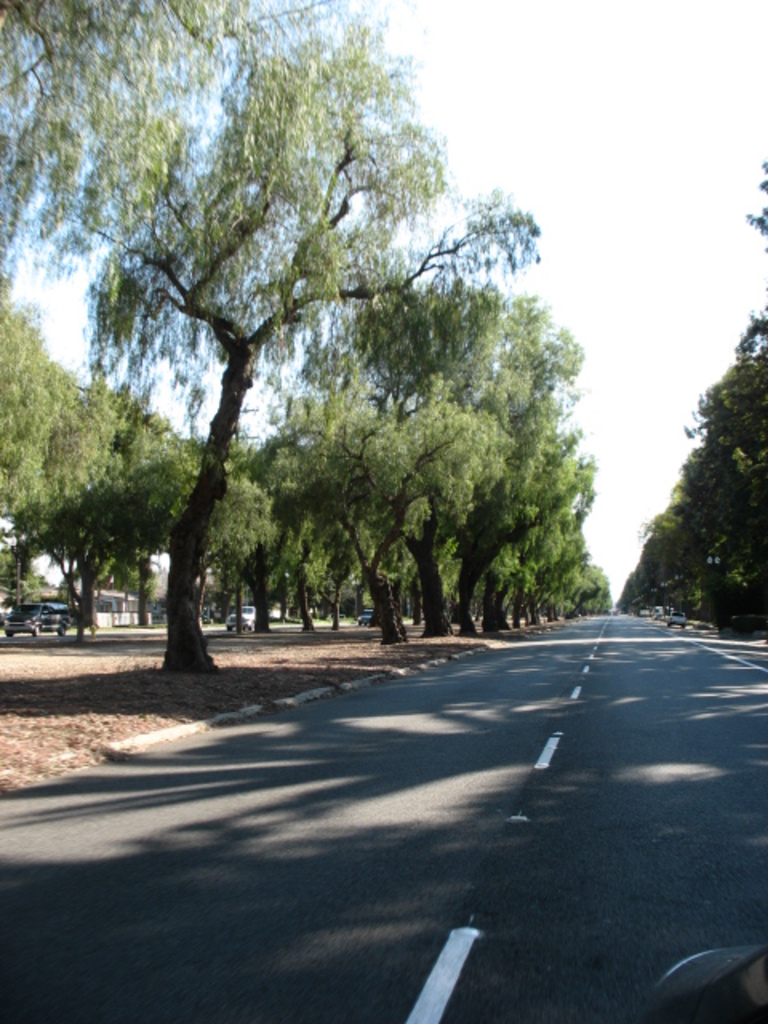Tree: (28, 0, 615, 673), (320, 278, 579, 608), (0, 0, 273, 280), (257, 388, 499, 636), (617, 316, 766, 632), (433, 435, 608, 643), (107, 427, 284, 630), (0, 324, 73, 647), (43, 393, 140, 632)
